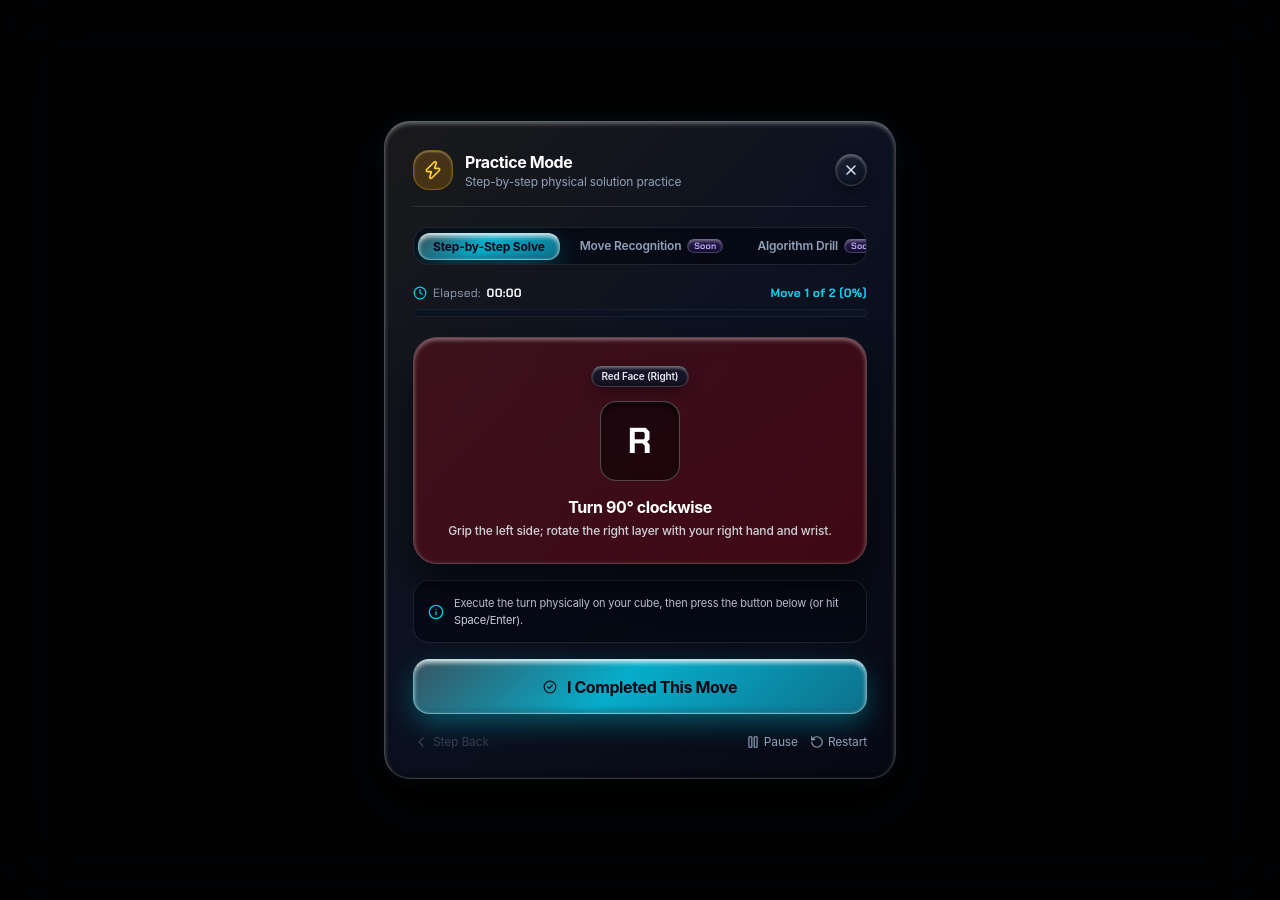
PracticeModal Component (Phase 5C) › advances through moves and displays completion screen
Complete move 1: R
Click the button "I Completed This Move" at (640, 686), box [413, 659, 867, 714]
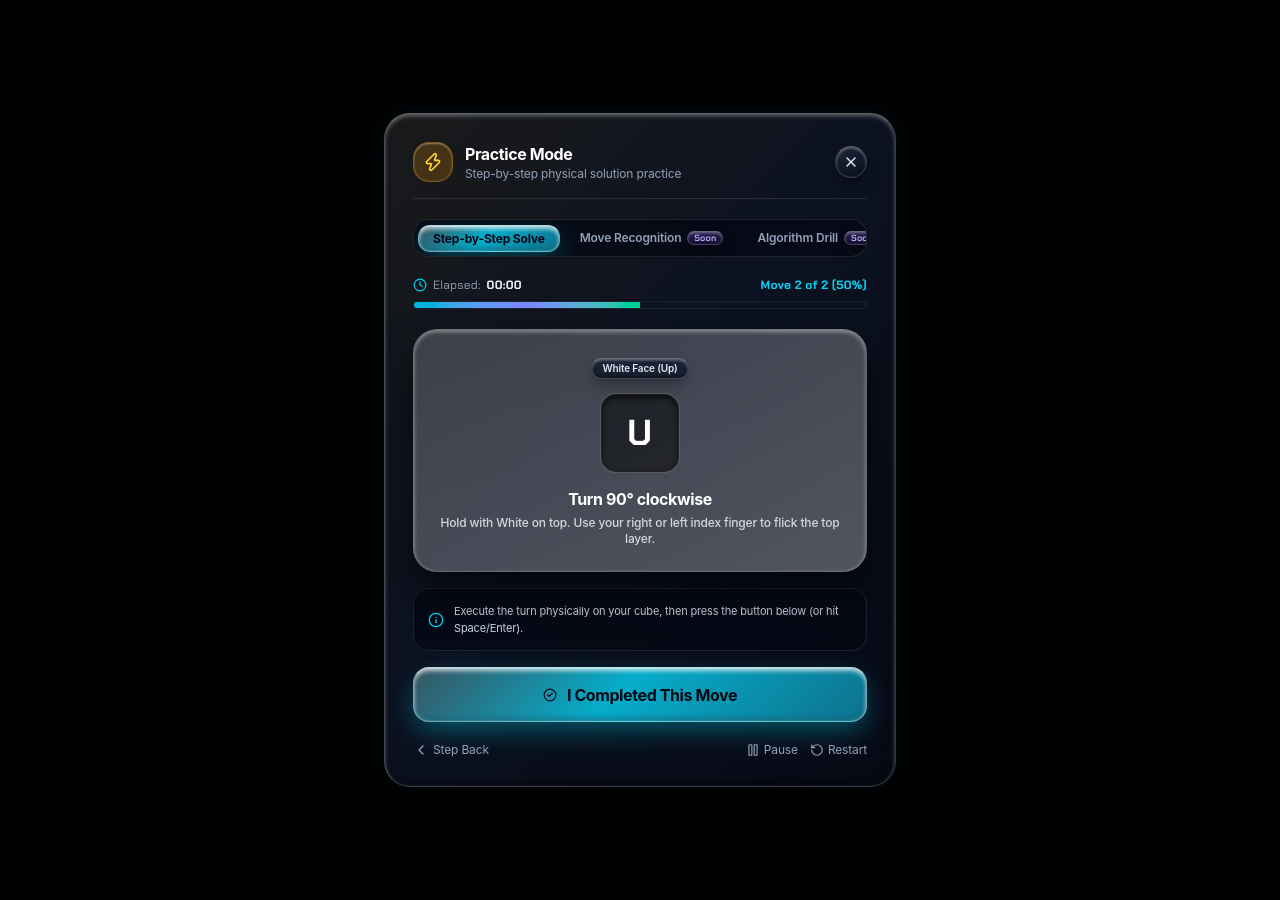
Expected: the text "U" is shown, [600, 393, 680, 473]
Click the button "I Completed This Move" at (640, 694), box [413, 667, 867, 722]
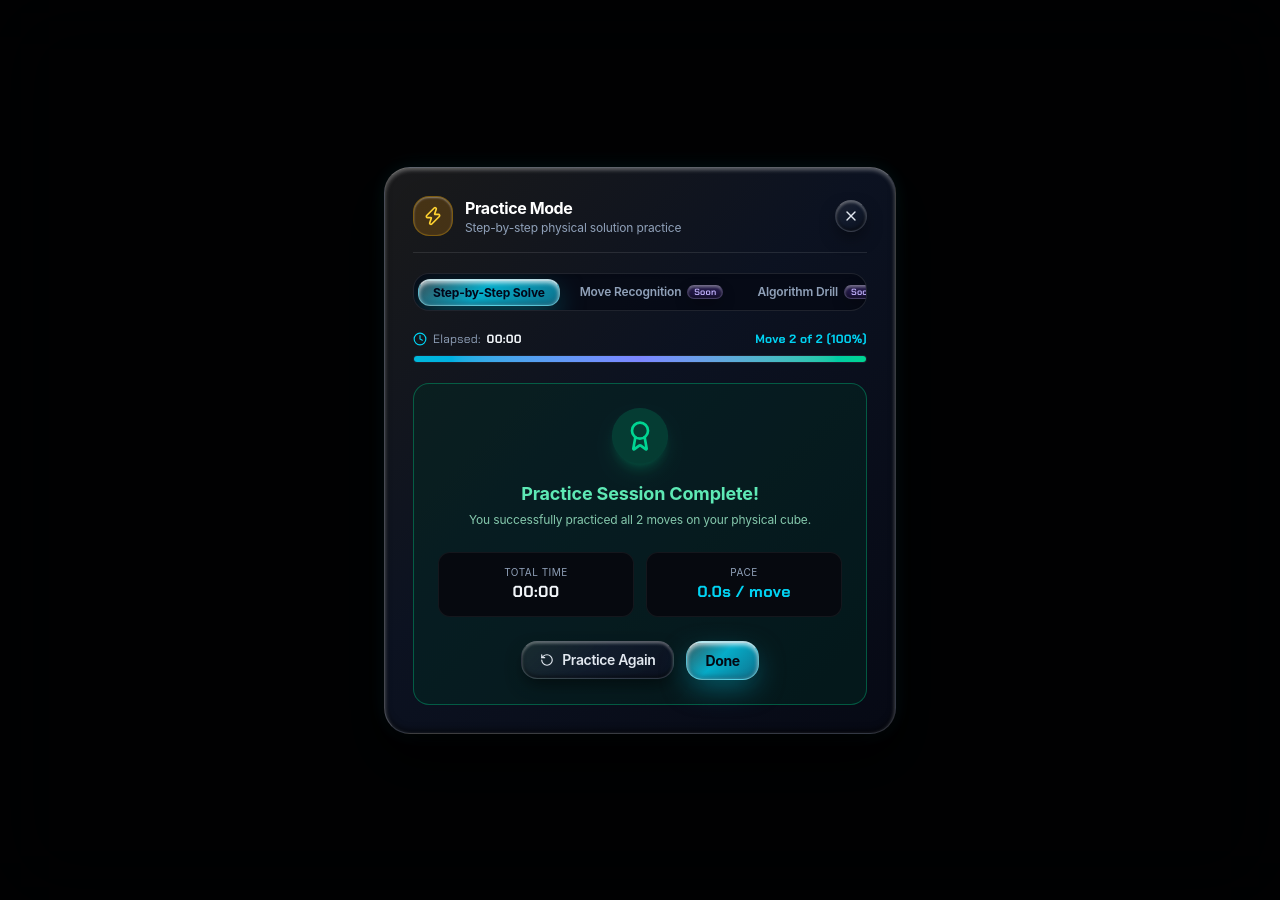
Expected: the heading "Practice Session Complete!" is shown, [521, 482, 759, 504]
Expected: the button "Practice Again" is shown, [521, 641, 674, 679]
Expected: the button "Done" is shown, [686, 640, 759, 680]
